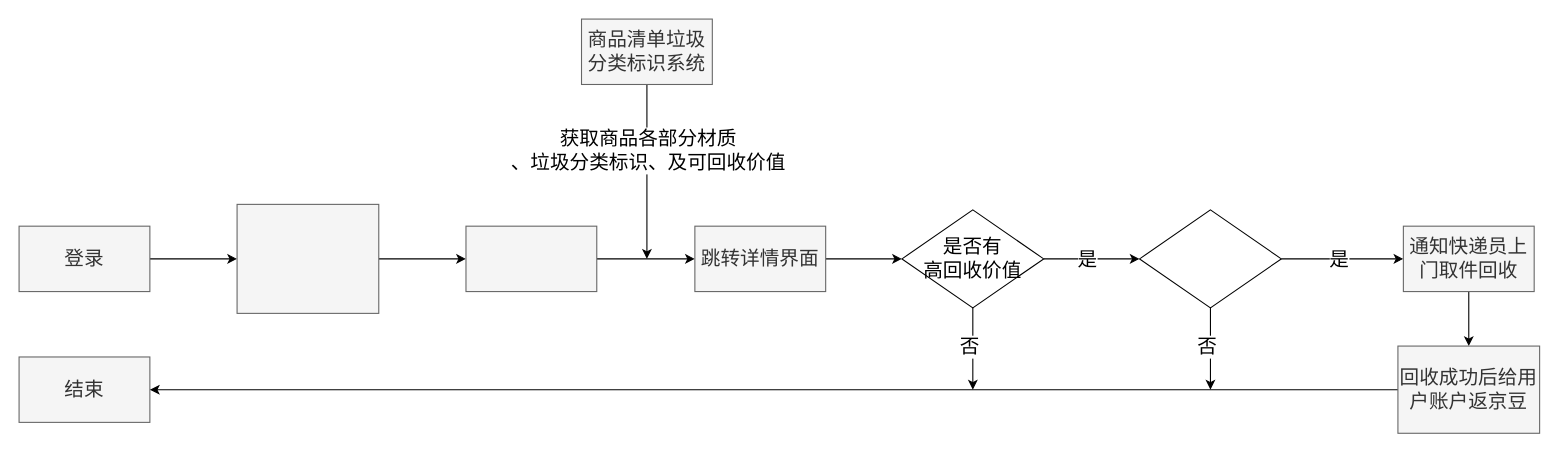
Image size: 1559x452. Some labels were removed from this diagram. The shapes that lost their labels are listed below. From the top down, each one's box as (x1, y1, x2, y2) in pixels, then its label:
(236, 203, 379, 313): 输入关键字检索订单或已购商品
(465, 225, 597, 292): 点击 商品解析
(1139, 209, 1281, 308): 是否回收
